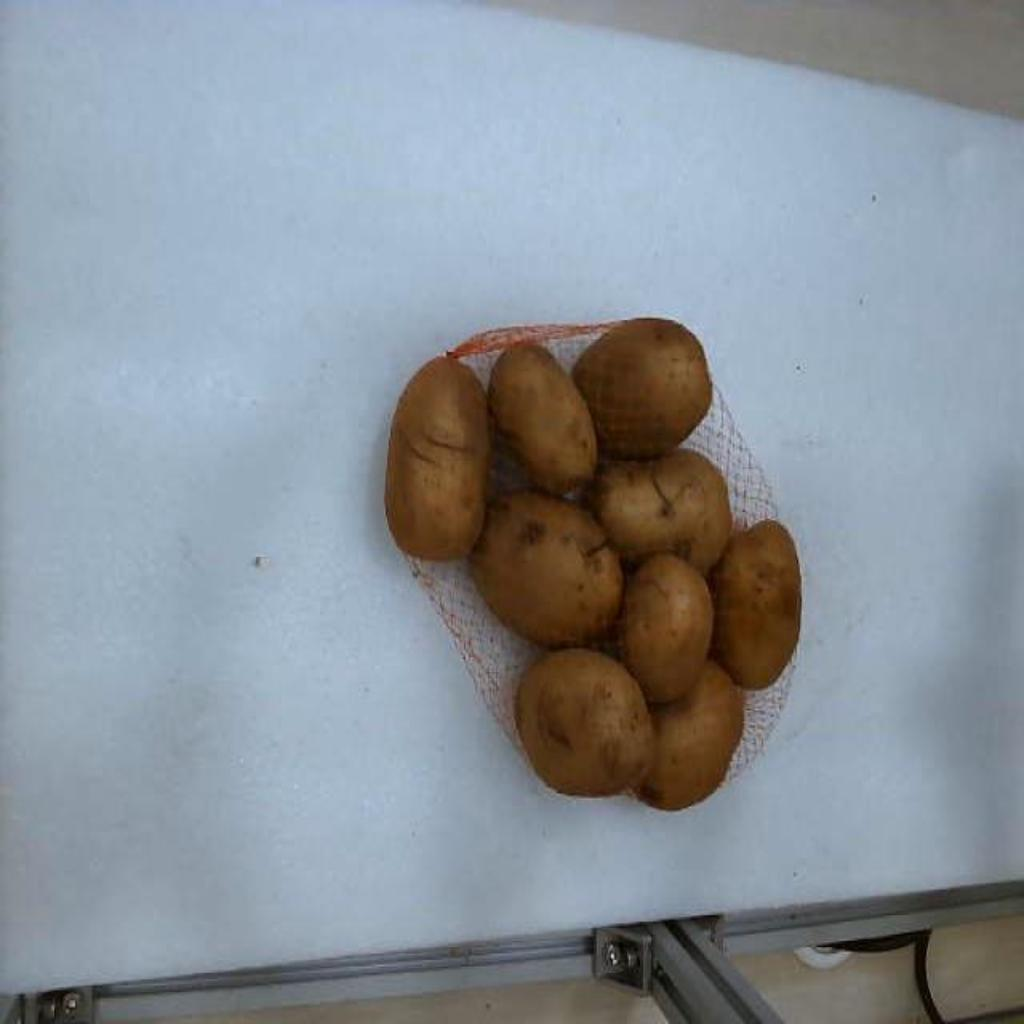potato: (476, 491, 624, 648), (386, 357, 488, 559), (516, 648, 654, 796), (572, 317, 712, 457), (592, 448, 732, 572), (488, 344, 598, 492), (638, 661, 744, 809), (710, 520, 802, 687), (620, 552, 714, 703)
